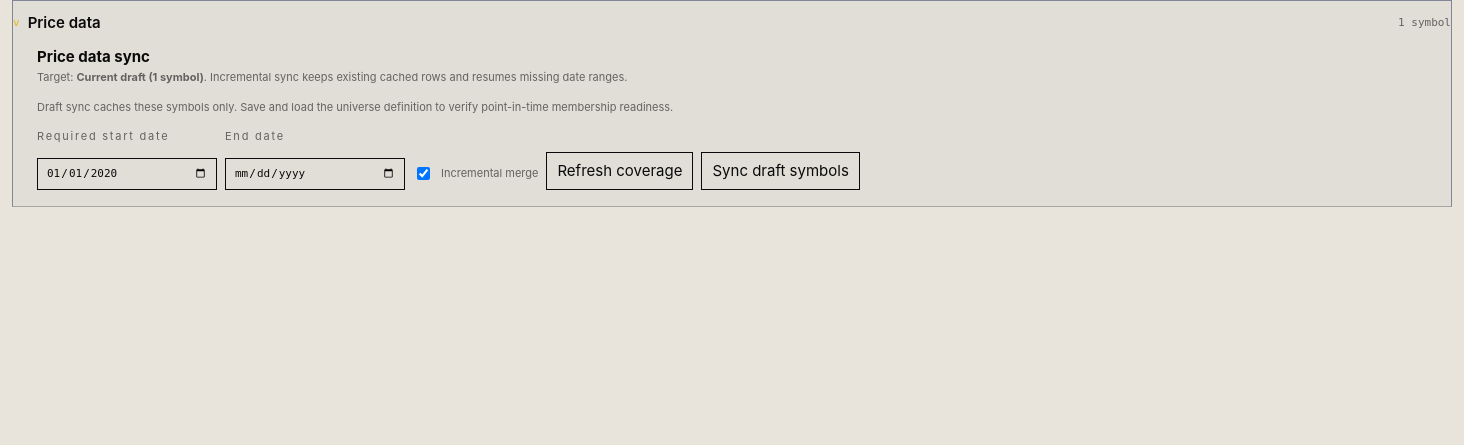
Test: UniverseDataSync › explains a provider allowance stop and how many symbols were never requested
Click the button with test id "sync-universe" at [781, 171], box [702,152,860,190]
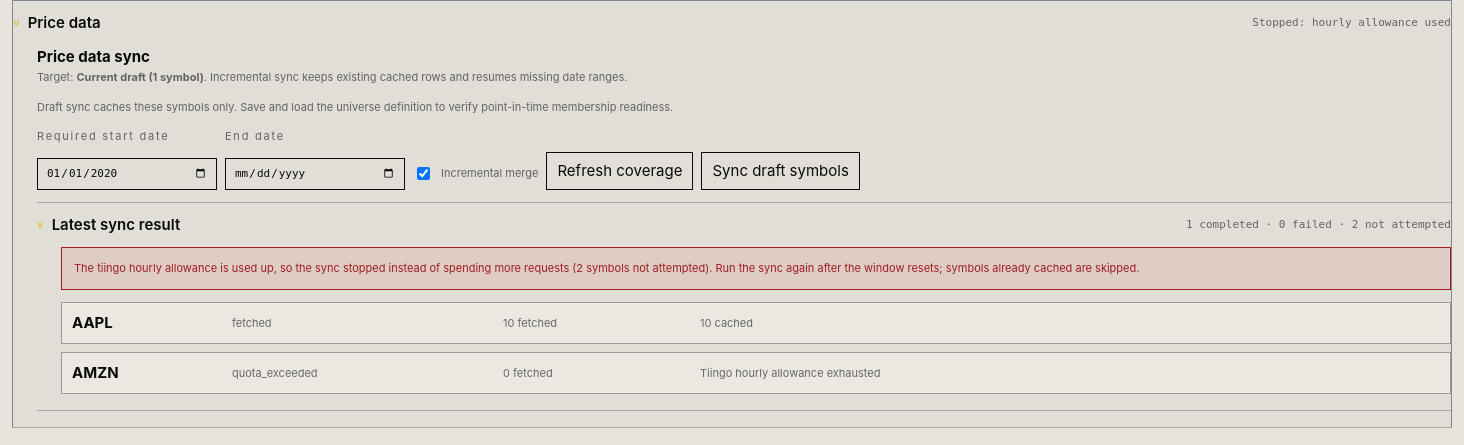
Check: the text "Stopped: hourly allowance used" is shown, box [1252,14,1451,32]
Check: the text with test id "sync-quota-stop" shows "The tiingo hourly allowance is used up, so the sync stopped instead of spending more requests (2 symbols not attempted).", box [61,247,1451,290]
Check: the text "1 completed · 0 failed · 2 not attempted" is shown, box [1186,216,1451,234]
